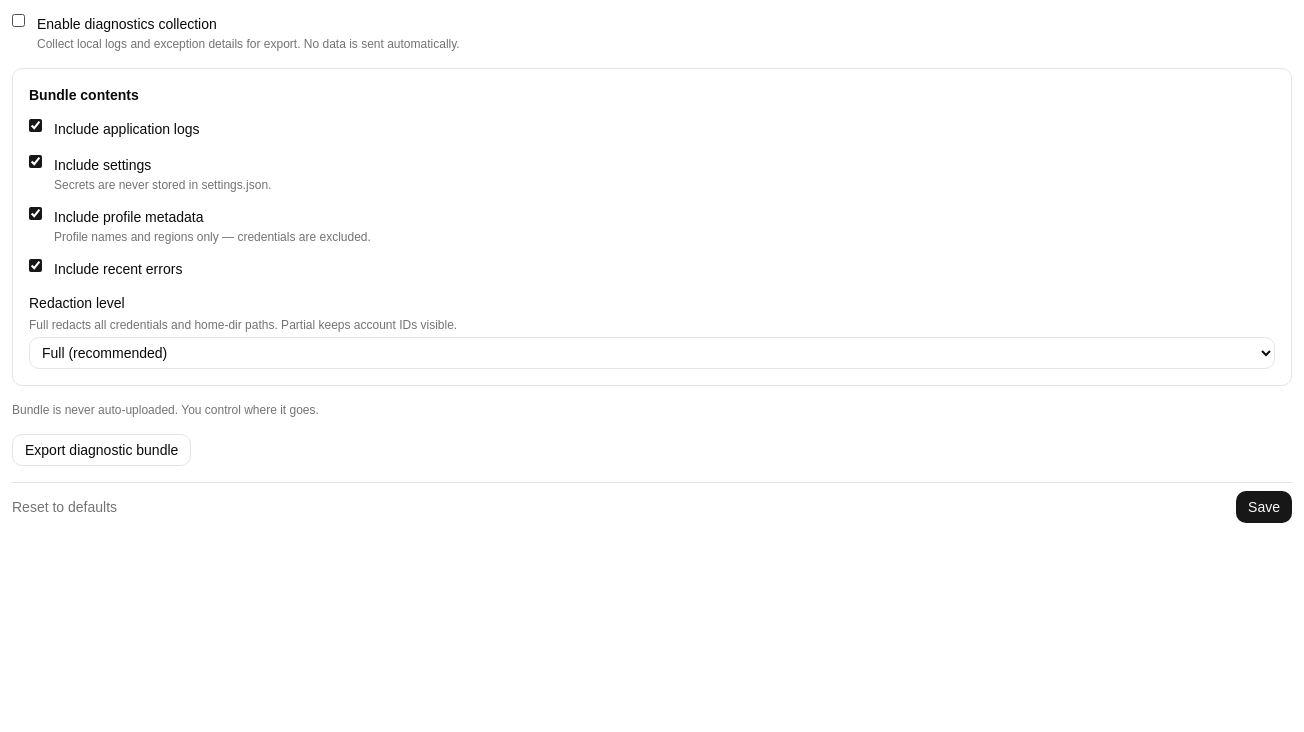
DiagnosticsPanel › shows error alert when collect fails
The image size is (1304, 732).
Click the button "Export diagnostic bundle".
click(102, 450)  # box [12,434,191,466]
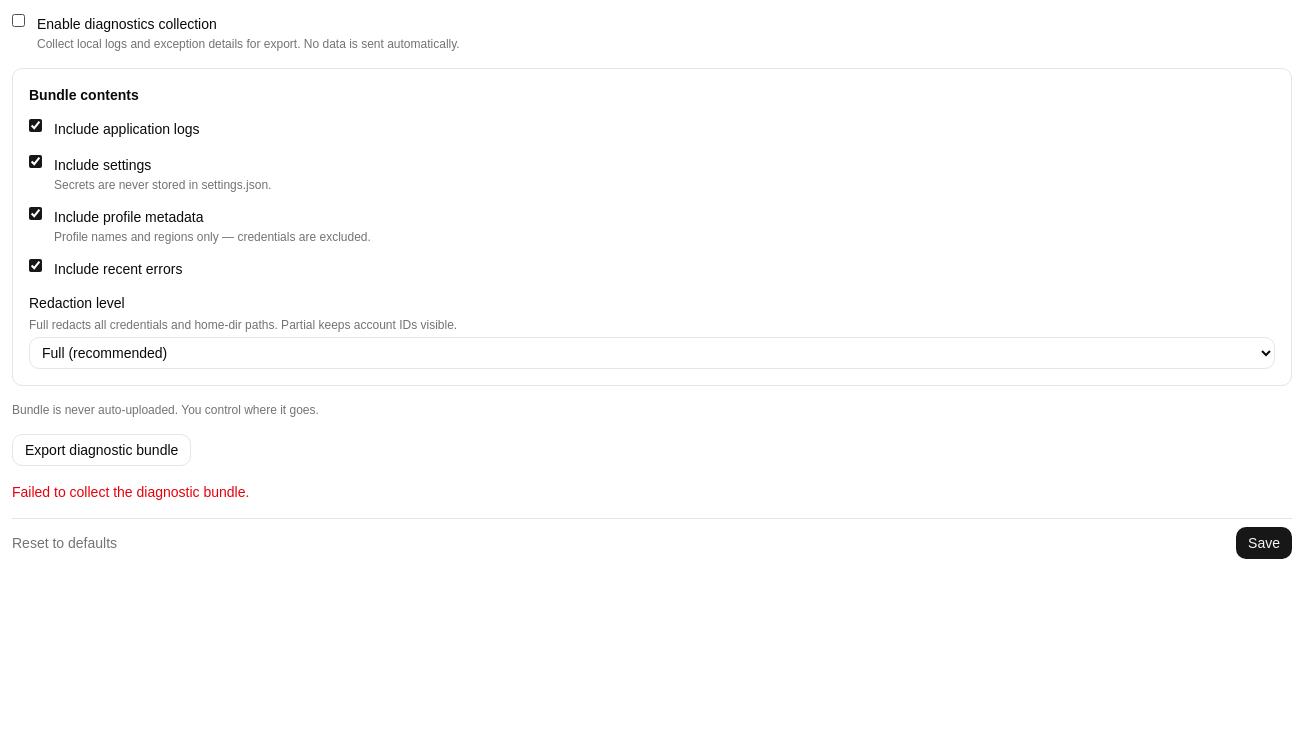
Check: the message shows "Failed to collect", box [12,484,249,500]
